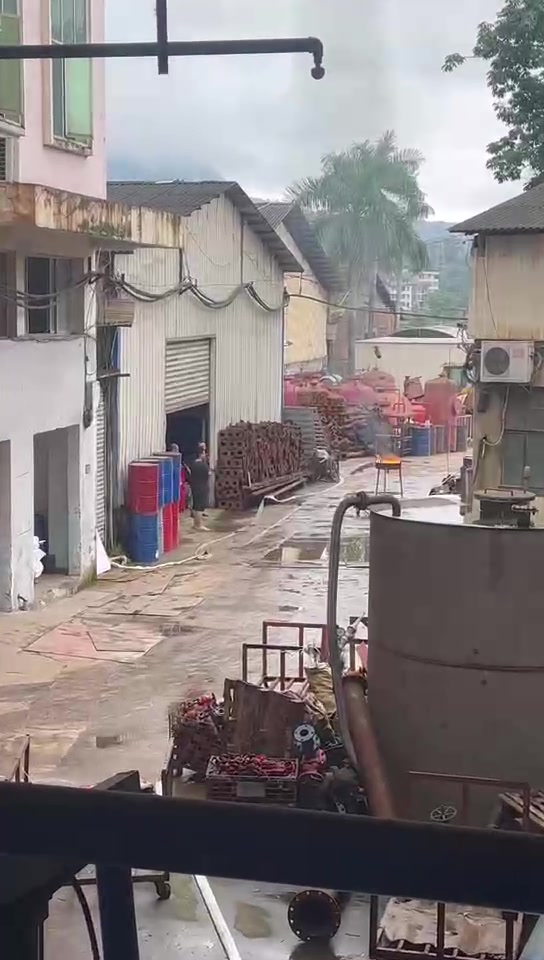fire: (376, 453, 400, 463)
